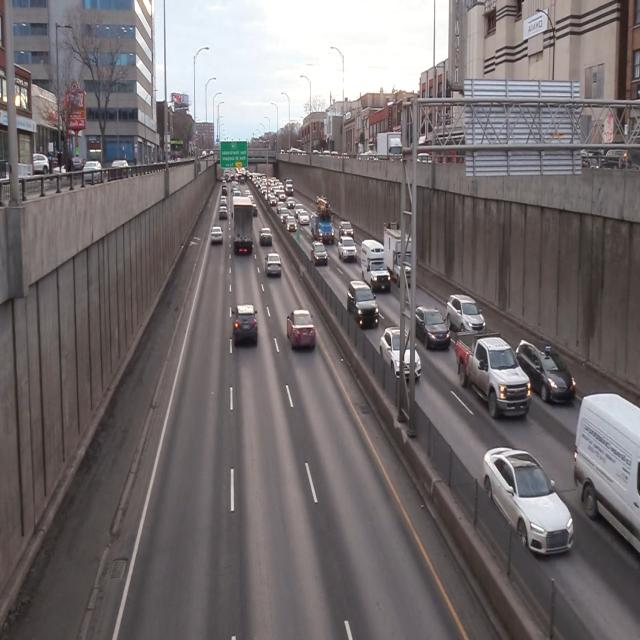Car: (479, 447, 573, 551), (452, 337, 531, 417), (518, 339, 574, 406), (413, 299, 448, 359), (379, 328, 420, 379), (342, 279, 381, 330), (444, 292, 484, 339), (284, 303, 316, 359), (230, 302, 260, 350)
